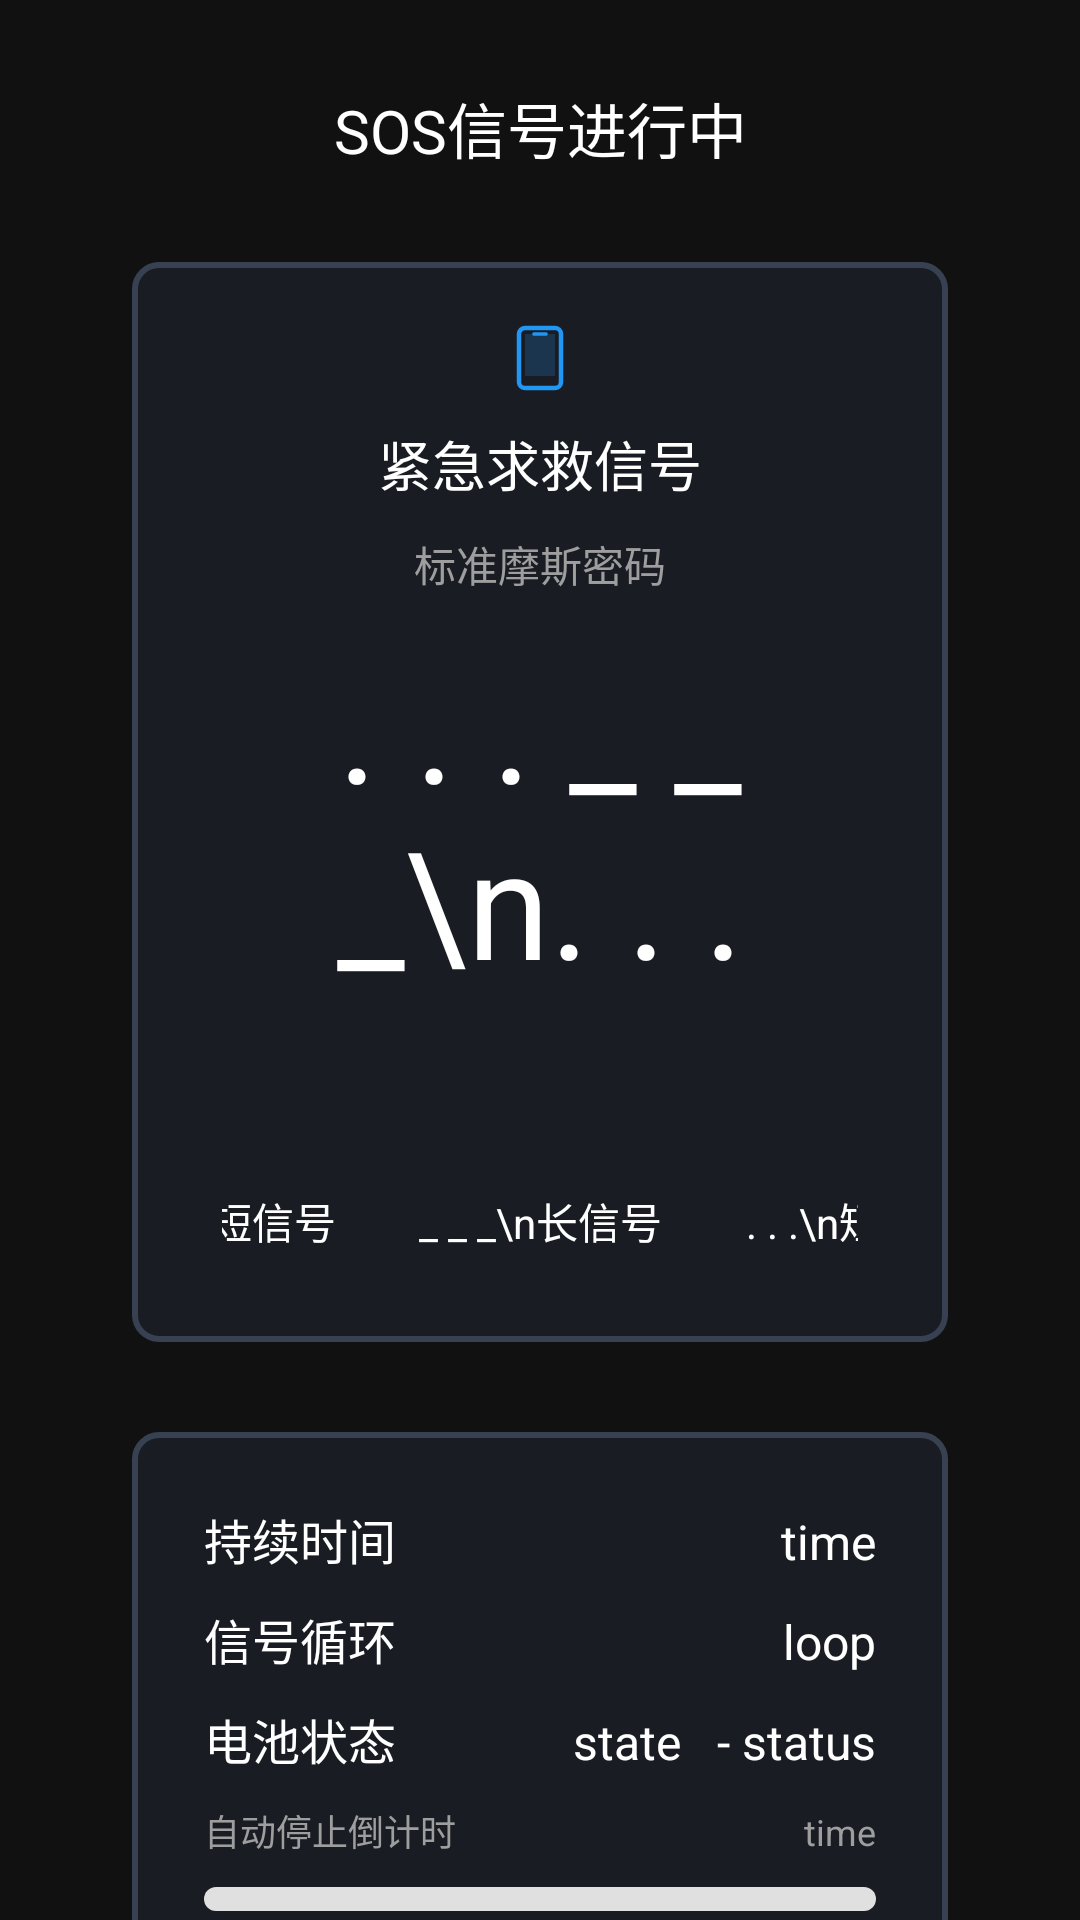

Screen size 1080 x 1920. Icon name, then its center in pixels as (x=x, y=y):
屏幕: (x=540, y=358)
